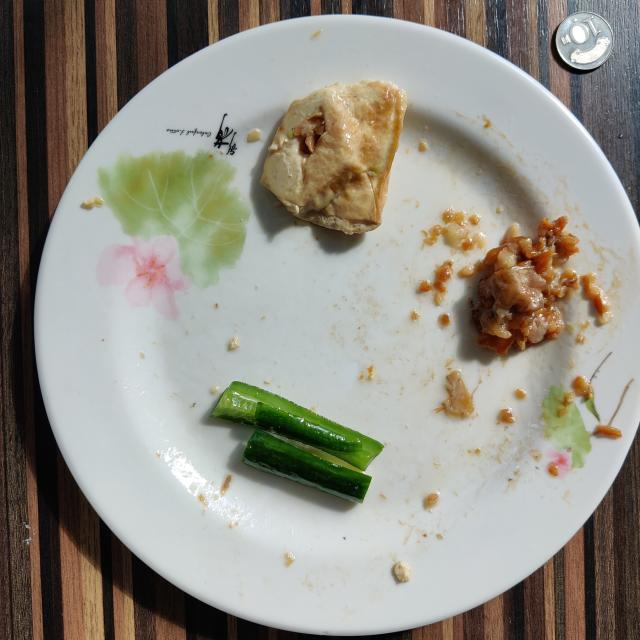Kabayaki sea bream fillet: (472, 216, 580, 355)
coin: (555, 11, 614, 70)
cucumber: (211, 381, 384, 502)
